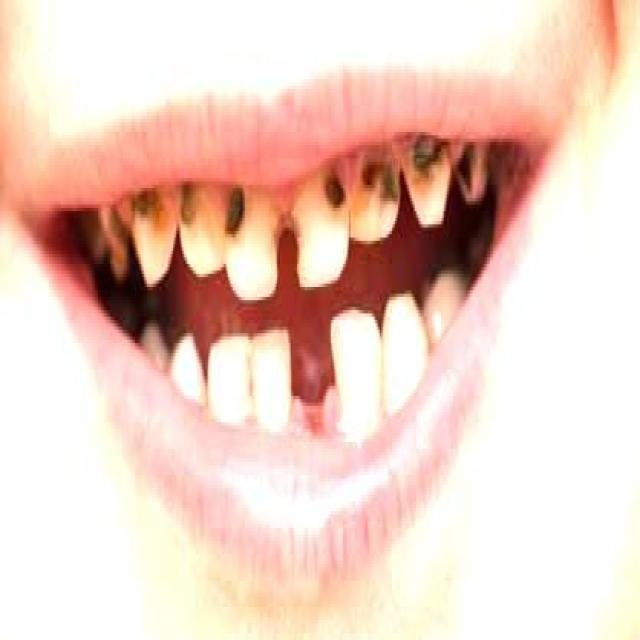caries: (355, 129, 402, 215), (406, 120, 446, 218), (447, 125, 490, 209), (96, 191, 132, 289), (216, 175, 256, 256), (266, 197, 309, 272), (316, 155, 354, 233), (130, 181, 172, 251), (176, 176, 213, 252)
